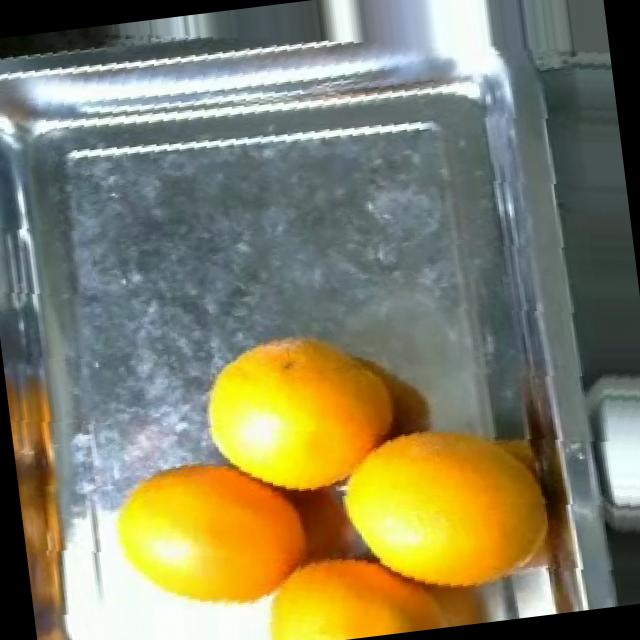Fruit: (82, 431, 321, 640), (178, 314, 396, 516)
